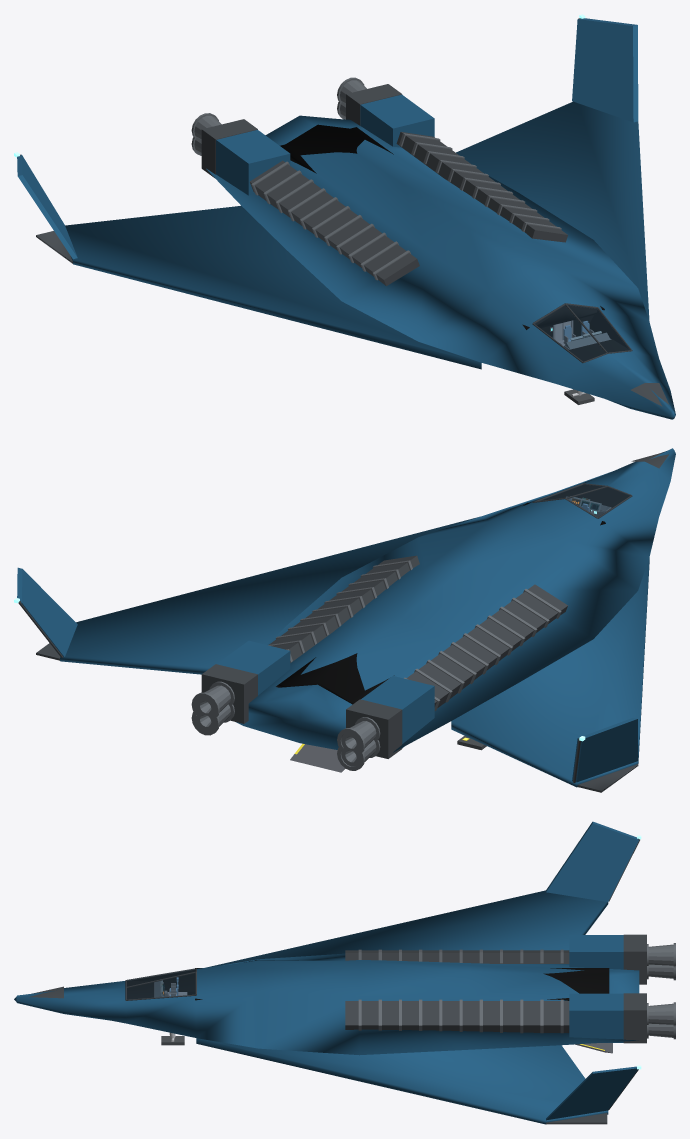
The model's file is Atlas_v3.glb.
3 renders of one model, top to bottom at view 1: azimuth 30°, elevation 25°; view 2: azimuth 150°, elevation 25°; view 3: azimuth 270°, elevation 25°, orthographic. The views are drawn at different scales.
Parts seen in each view (by area): view 1: Exterior_Hull_Fuselage_Blue, Exterior_Wing_Port_Blue, Exterior_Wing_Starboard_Blue, Exterior_Dorsal_Spine_Black.001, Exterior_Winglet_Starboard_Blue, Exterior_Engine_Nacelles_Blue, Exterior_Dorsal_Spine_Black, Cockpit_Cabin_Airtight_Enclosure.001, Cockpit_Transparent_Windshield, Exterior_Engine_Cowlings_Black, Exterior_Winglet_Port_Blue, Cockpit_Cabin_Airtight_Enclosure (+1 smaller); view 2: Exterior_Hull_Fuselage_Blue, Exterior_Wing_Starboard_Blue, Exterior_Wing_Port_Blue, Exterior_Dorsal_Spine_Black.001, Exterior_Engine_Nacelles_Blue, Exterior_Dorsal_Spine_Black, Exterior_Engine_Cowlings_Black, Exterior_Winglet_Port_Blue, Exterior_Winglet_Starboard_Blue, Cockpit_Cabin_Airtight_Enclosure.001, Exterior_Engine_Exhaust_Nozzles.005, Exterior_Engine_Exhaust_Nozzles.001 (+7 smaller); view 3: Exterior_Hull_Fuselage_Blue, Exterior_Wing_Starboard_Blue, Exterior_Wing_Port_Blue, Exterior_Dorsal_Spine_Black, Exterior_Engine_Nacelles_Blue, Exterior_Winglet_Port_Blue, Exterior_Dorsal_Spine_Black.001, Exterior_Winglet_Starboard_Blue, Exterior_Engine_Cowlings_Black, Cockpit_Transparent_Windshield, Cockpit_Cabin_Airtight_Enclosure.001, Cockpit_Cabin_Airtight_Enclosure (+4 smaller).
Part boxes in pixels (x1,y1,x2,y2): Exterior_Hull_Fuselage_Blue: (206,115,675,419); Exterior_Wing_Port_Blue: (65,206,481,369); Exterior_Wing_Starboard_Blue: (456,101,649,320); Exterior_Dorsal_Spine_Black.001: (250,160,419,285); Exterior_Winglet_Starboard_Blue: (572,18,638,122); Exterior_Engine_Nacelles_Blue: (216,94,434,195); Exterior_Dorsal_Spine_Black: (396,132,567,242); Cockpit_Cabin_Airtight_Enclosure.001: (280,124,604,329); Cockpit_Transparent_Windshield: (536,305,628,360); Exterior_Engine_Cowlings_Black: (201,84,402,177); Exterior_Winglet_Port_Blue: (17,154,77,259); Cockpit_Cabin_Airtight_Enclosure: (541,309,629,361); Exterior_Hull_Fuselage_Blue: (236,448,675,752); Exterior_Wing_Starboard_Blue: (60,516,479,674); Exterior_Wing_Port_Blue: (451,557,649,787); Exterior_Dorsal_Spine_Black.001: (404,584,567,710); Exterior_Engine_Nacelles_Blue: (217,640,434,747); Exterior_Dorsal_Spine_Black: (268,555,419,662); Exterior_Engine_Cowlings_Black: (201,664,402,758); Exterior_Winglet_Port_Blue: (572,718,638,782); Exterior_Winglet_Starboard_Blue: (17,567,77,657); Cockpit_Cabin_Airtight_Enclosure.001: (276,502,605,704); Exterior_Engine_Exhaust_Nozzles.005: (195,681,234,731); Exterior_Engine_Exhaust_Nozzles.001: (341,717,380,766); Exterior_Hull_Fuselage_Blue: (14,953,639,1055); Exterior_Wing_Starboard_Blue: (196,1038,608,1124); Exterior_Wing_Port_Blue: (206,890,608,967); Exterior_Dorsal_Spine_Black: (345,999,569,1033); Exterior_Engine_Nacelles_Blue: (569,935,623,1042); Exterior_Winglet_Port_Blue: (546,821,639,901); Exterior_Dorsal_Spine_Black.001: (345,949,569,963); Exterior_Winglet_Starboard_Blue: (546,1066,637,1120); Exterior_Engine_Cowlings_Black: (623,934,646,1043); Cockpit_Transparent_Windshield: (127,970,194,998); Cockpit_Cabin_Airtight_Enclosure.001: (195,968,609,1000); Cockpit_Cabin_Airtight_Enclosure: (127,970,195,999).
Bounding box in the file's own units: 38.4 × 6.76 × 42.58.
Materials: 52 (5 with a texture image).
